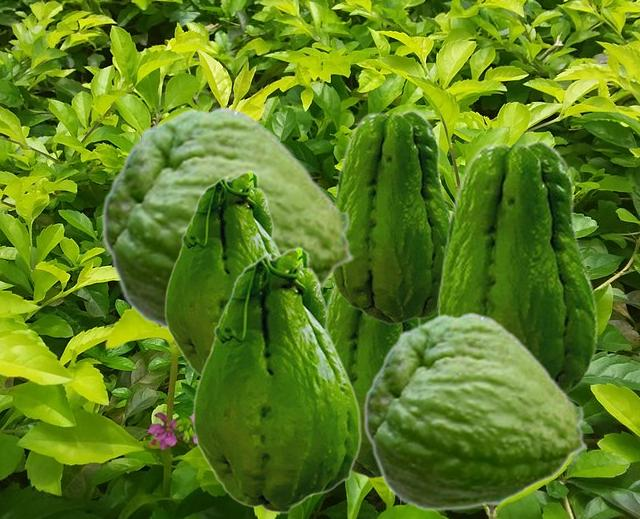sayote: (101, 105, 355, 331), (192, 246, 361, 513), (363, 311, 588, 511), (437, 139, 597, 395), (331, 109, 450, 324), (164, 170, 282, 377), (326, 284, 421, 478)
